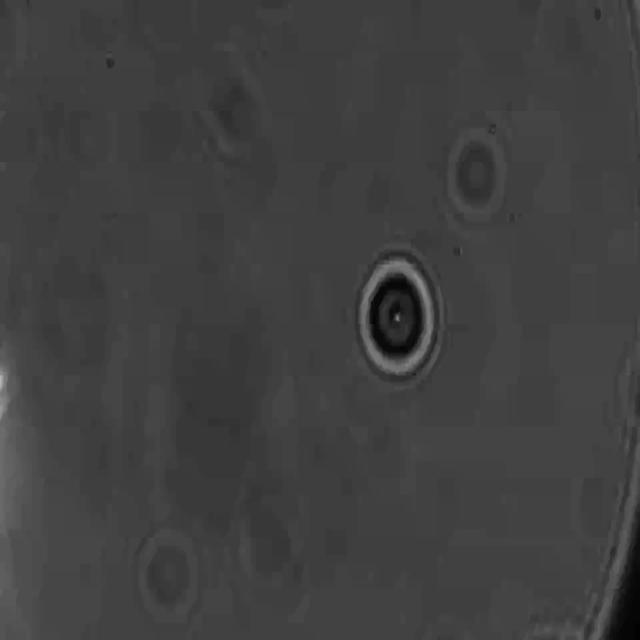LCELL: (352, 242, 444, 391)
